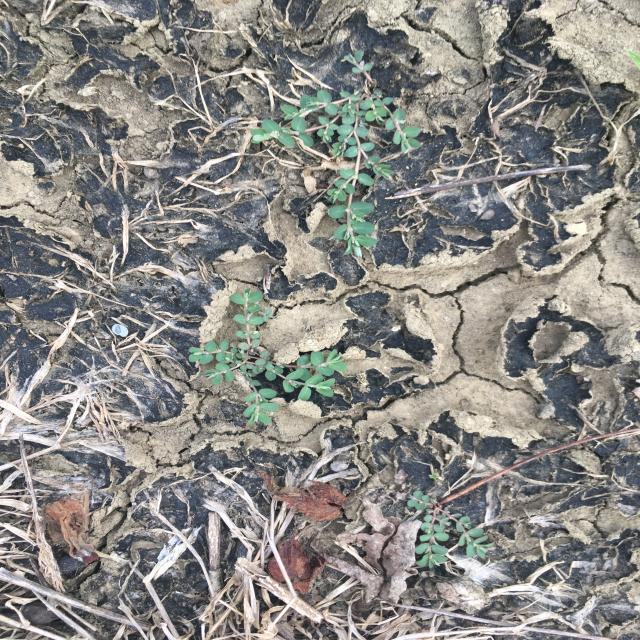SpottedSpurge: (248, 50, 425, 258), (187, 287, 350, 426), (406, 491, 497, 570)
